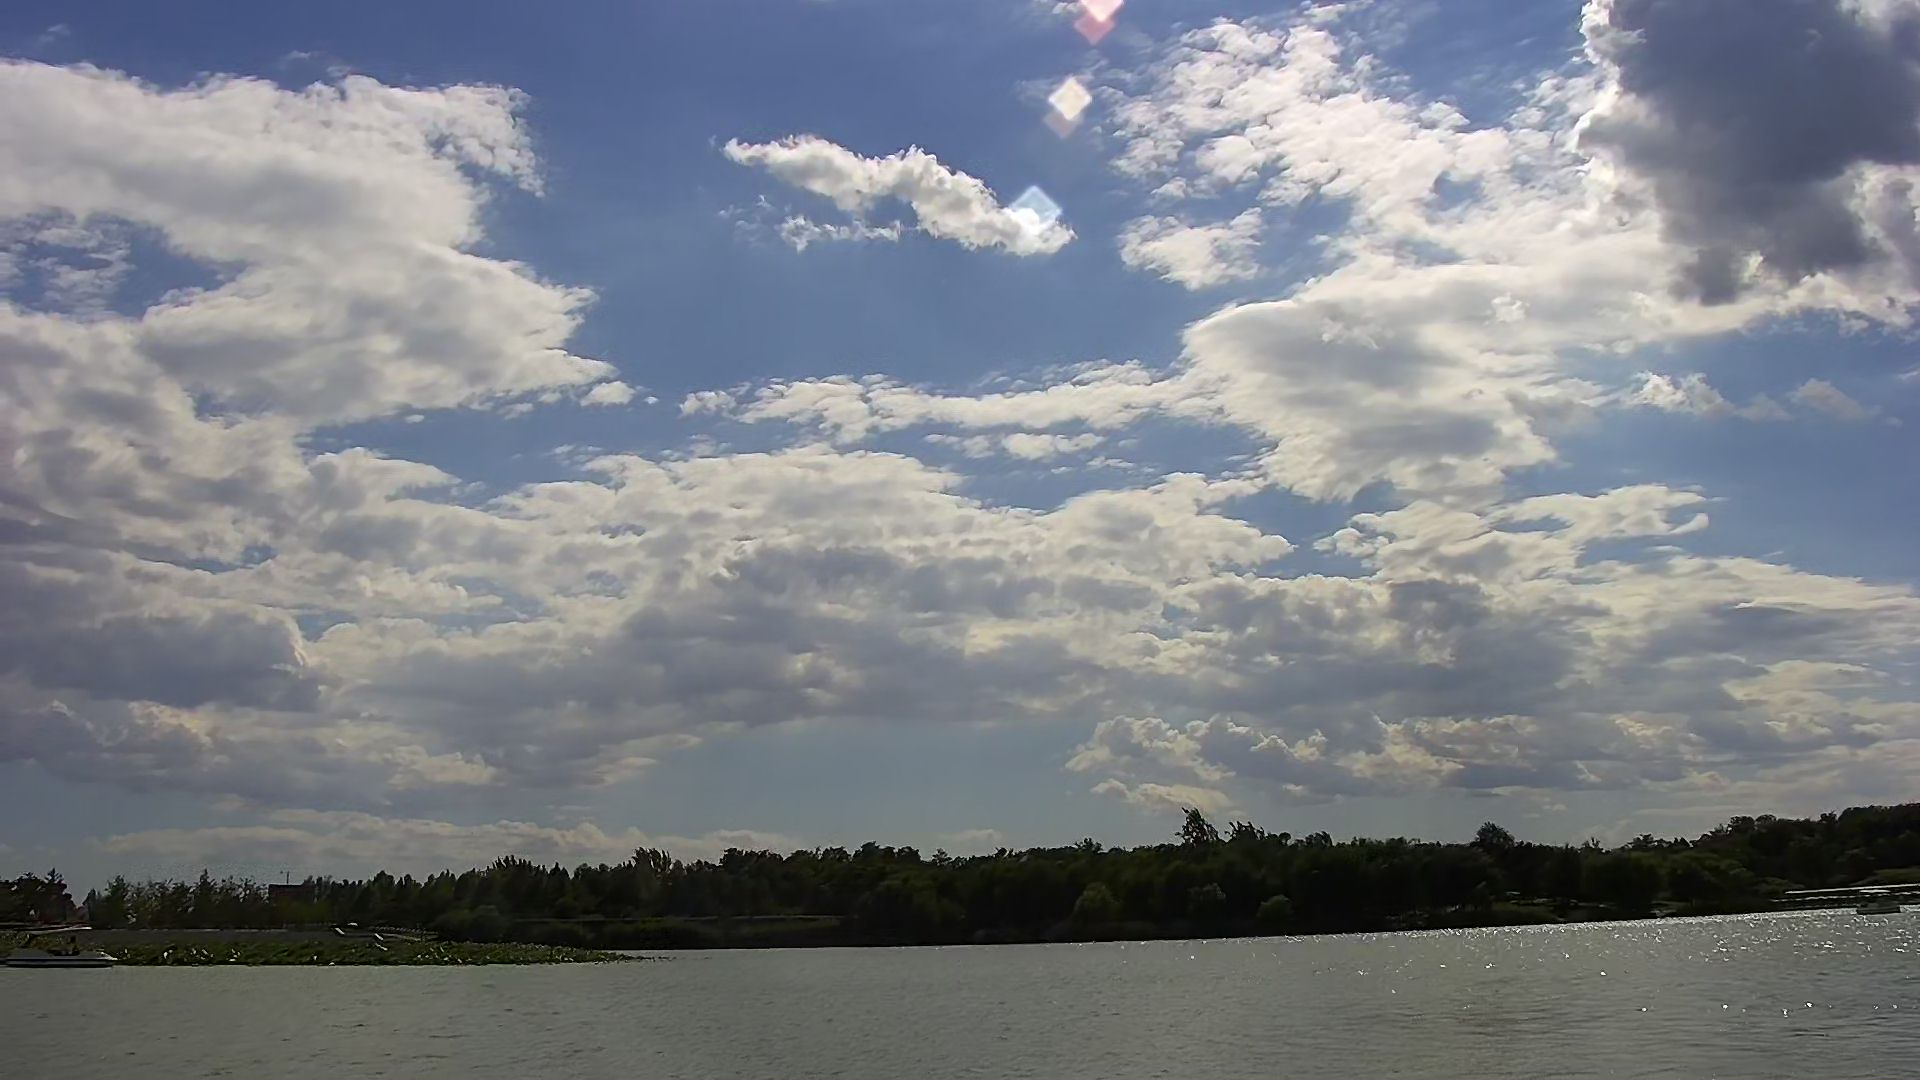boat: (1, 918, 123, 975)
harbor: (1774, 870, 1920, 920)
